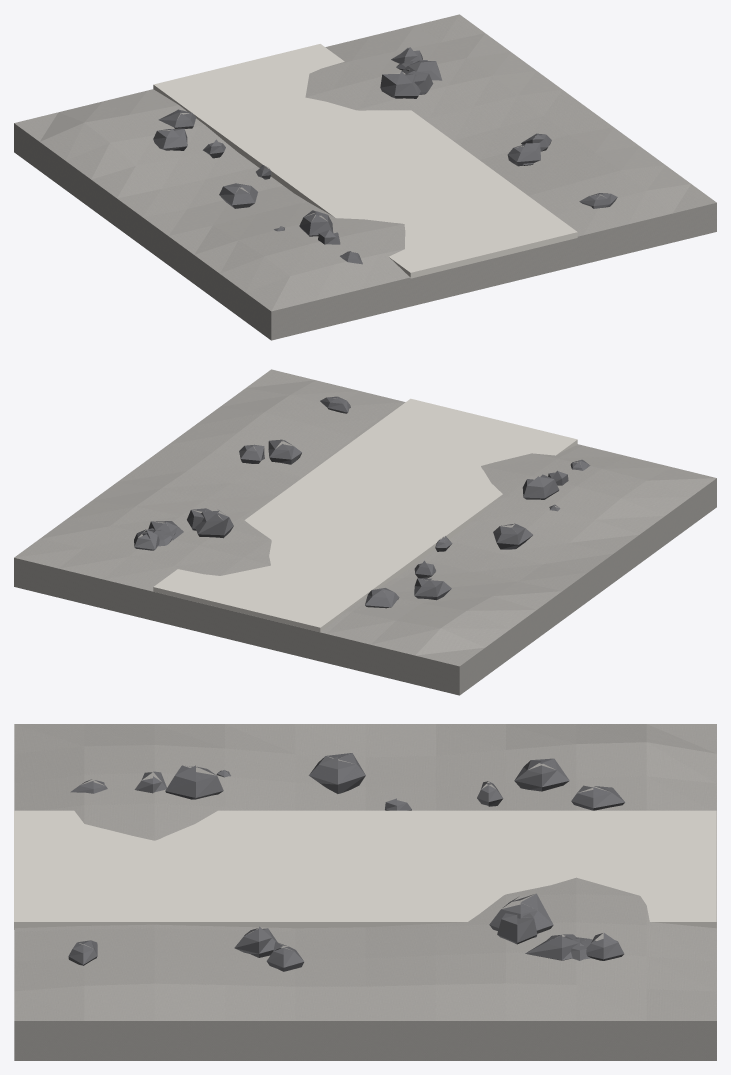
Rendered from volcano-and-lava-fields-volcano-and-lava-fields-cinder-46698f99__37450.glb.
3 renders of one model, top to bottom at view 1: azimuth 30°, elevation 25°; view 2: azimuth 150°, elevation 25°; view 3: azimuth 270°, elevation 25°, orthographic. The views are drawn at different scales.
Visible parts, largest first — view 1: volcano-and-lava-fields-cinder-track-plate; view 2: volcano-and-lava-fields-cinder-track-plate; view 3: volcano-and-lava-fields-cinder-track-plate.
Part boxes in pixels (<box>): volcano-and-lava-fields-cinder-track-plate: <box>14,14,716,340</box>; volcano-and-lava-fields-cinder-track-plate: <box>14,369,716,695</box>; volcano-and-lava-fields-cinder-track-plate: <box>14,724,716,1060</box>.
Size of the model in its own units: 4 by 0.4913 by 4.
3 materials, 2 textured.
